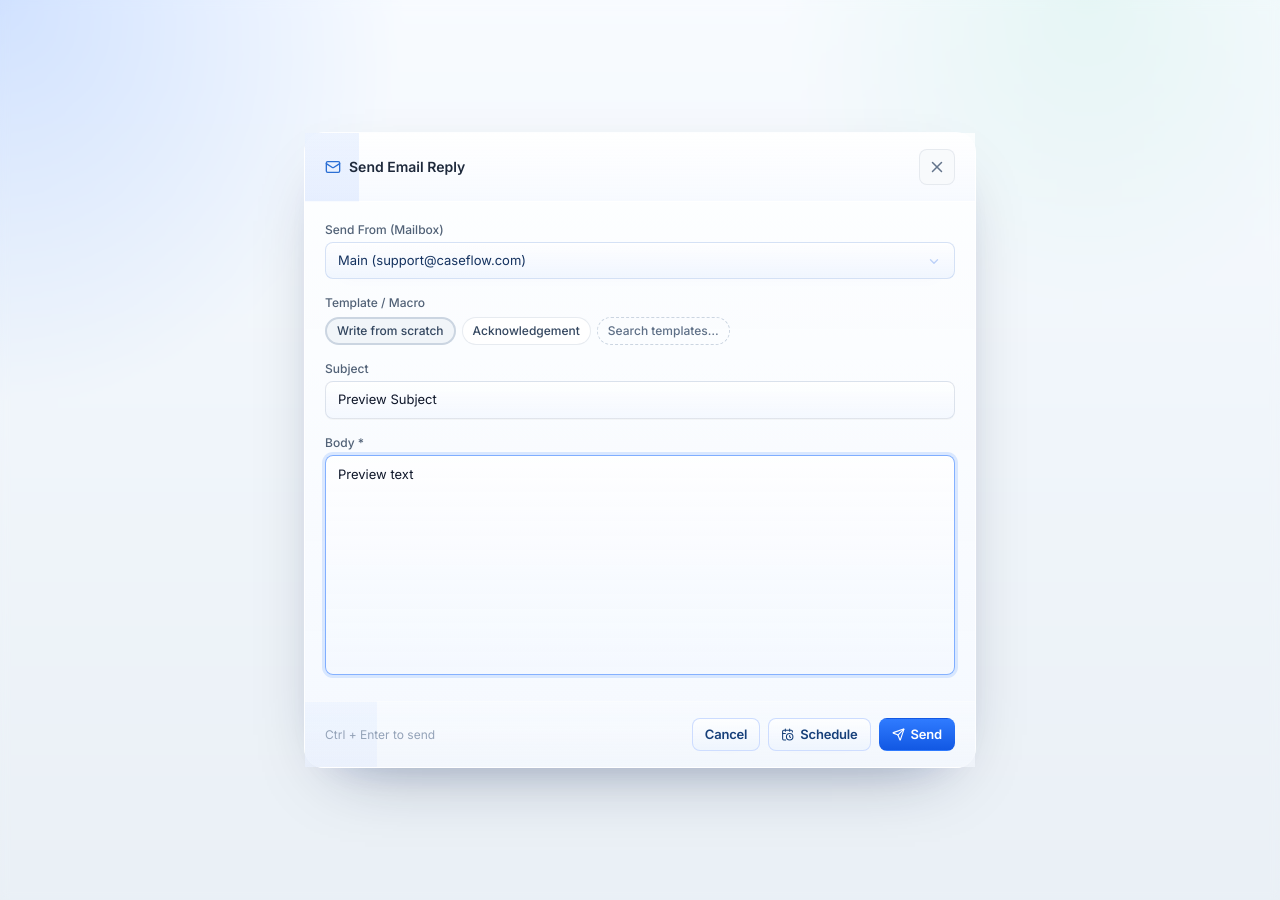
Test: EmailReplyComposer › shows queued feedback for accepted replies
The image size is (1280, 900).
Replace the text in the text box with placeholder "Type your reply…" with "Queued body" at (640, 565), box [325, 455, 955, 675]
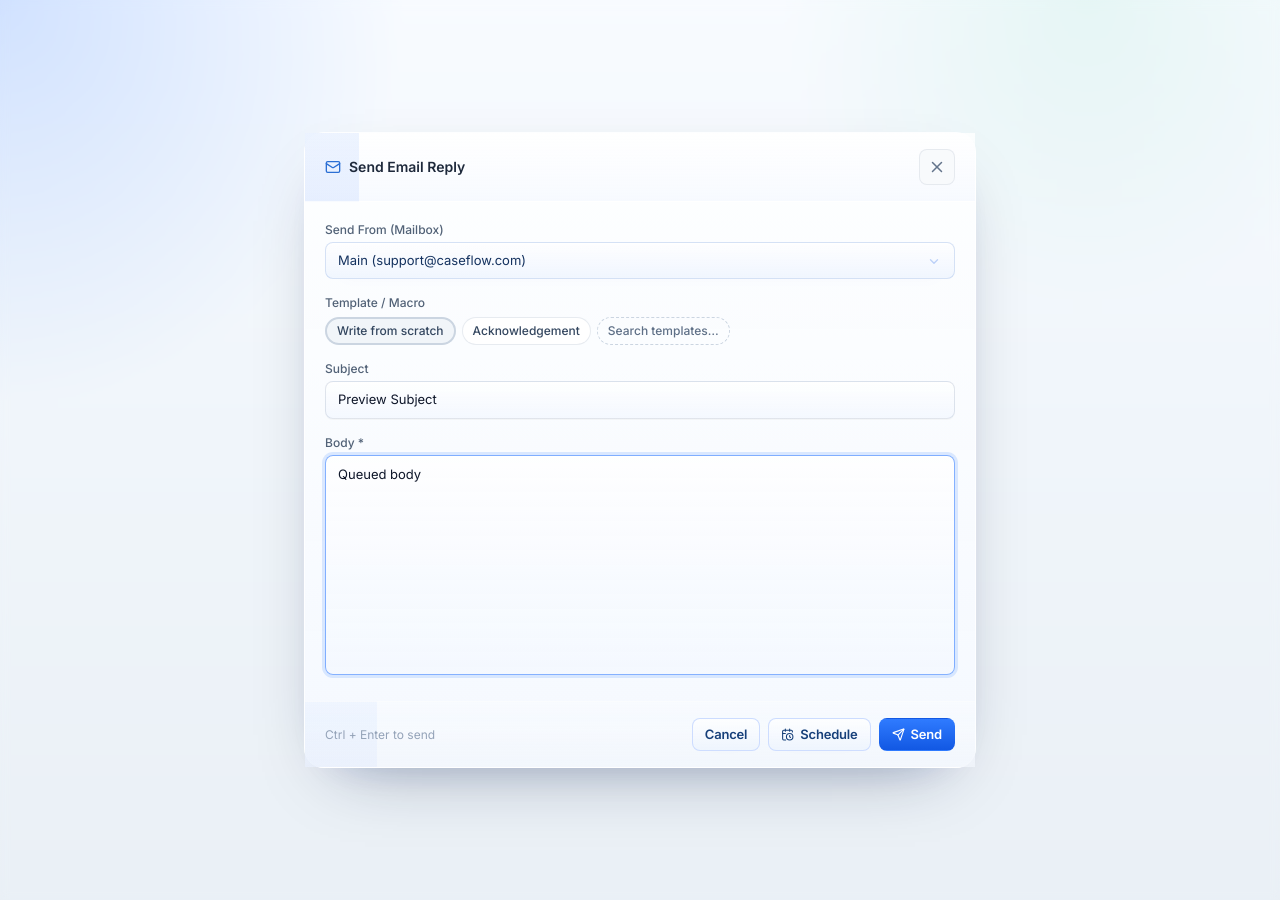
Click the button "Send" at (917, 735), box [879, 718, 955, 751]
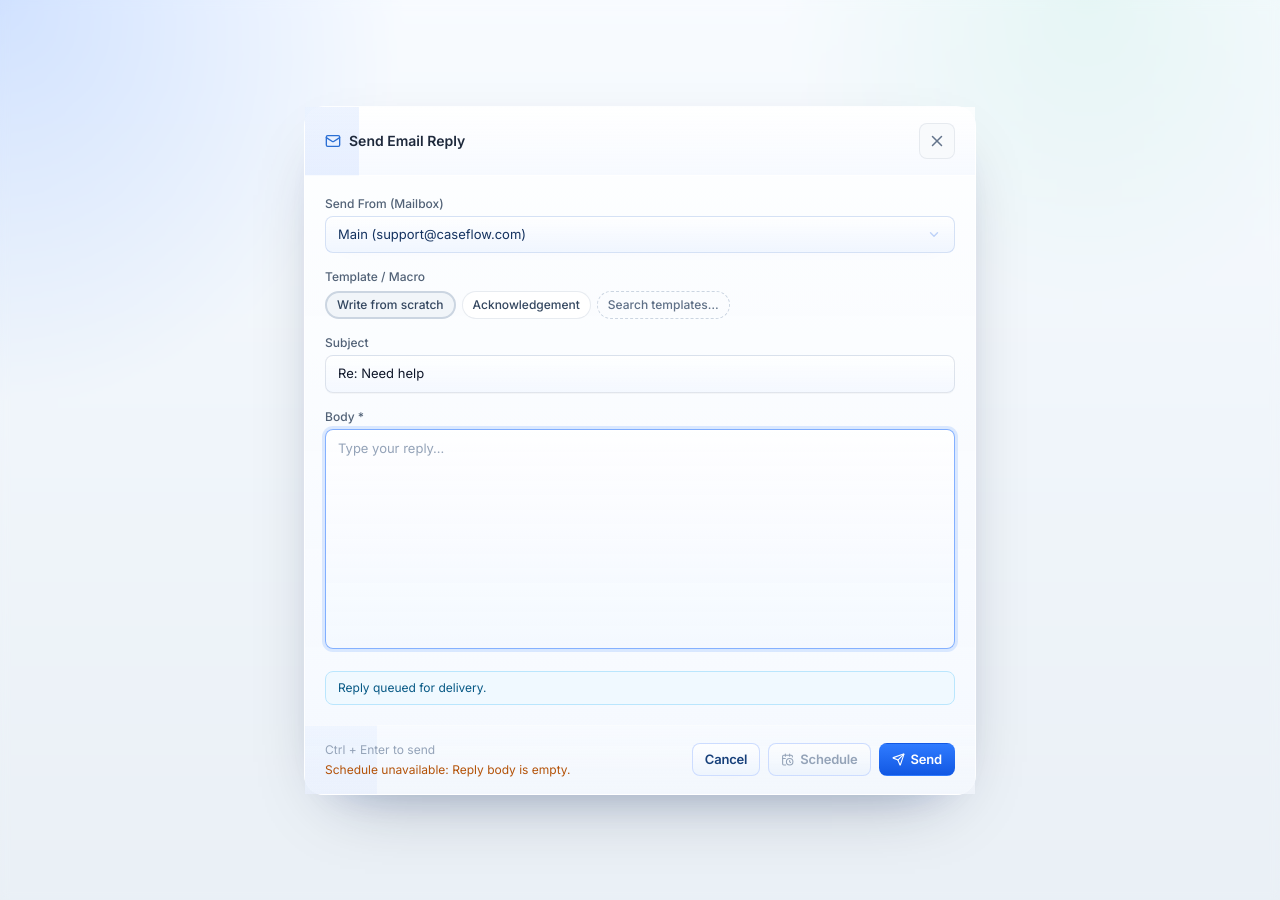
Now the text "Reply queued for delivery." is shown, box [325, 670, 955, 704]
